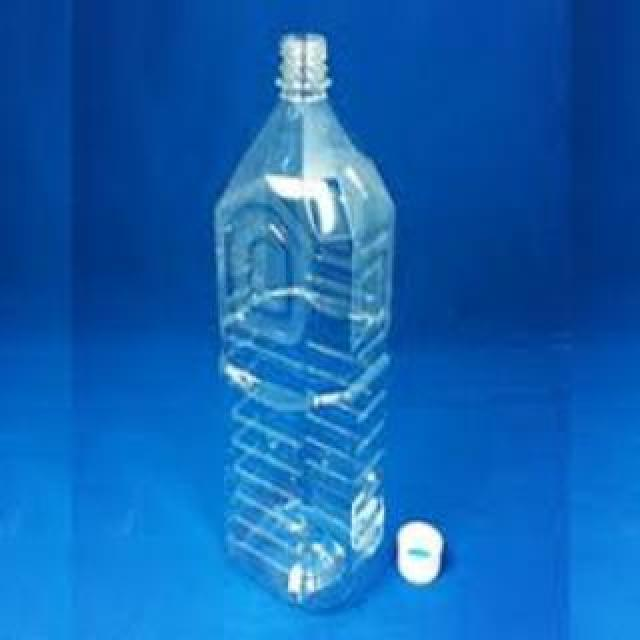Pet_Bottle: (210, 61, 396, 615)
